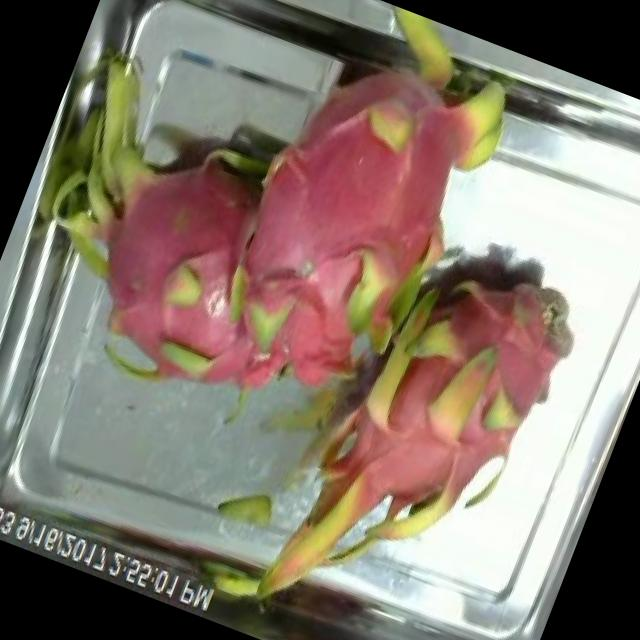Fruit: (406, 60, 530, 196)
